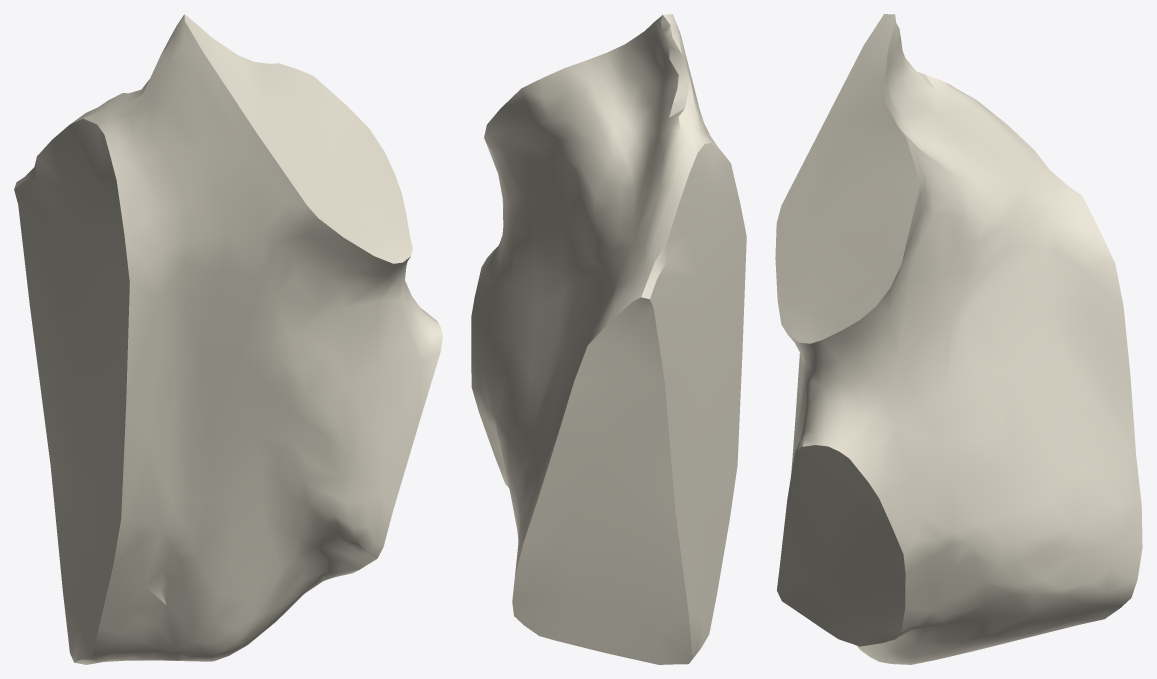
Rendered from fma12088_mm2395.glb.
3 views of the same model, side by side, from view 1: azimuth 30°, elevation 25°; view 2: azimuth 150°, elevation 25°; view 3: azimuth 270°, elevation 25° (orthographic). The views are drawn at different scales.
Visible parts, largest first — view 1: FMA12088_MM2395; view 2: FMA12088_MM2395; view 3: FMA12088_MM2395.
Part boxes in pixels (x1,y1,x2,y2): FMA12088_MM2395: [14, 14, 442, 664]; FMA12088_MM2395: [471, 14, 746, 664]; FMA12088_MM2395: [775, 14, 1142, 664].
Size of the model in its own units: 0.0138 by 0.0292 by 0.015.
